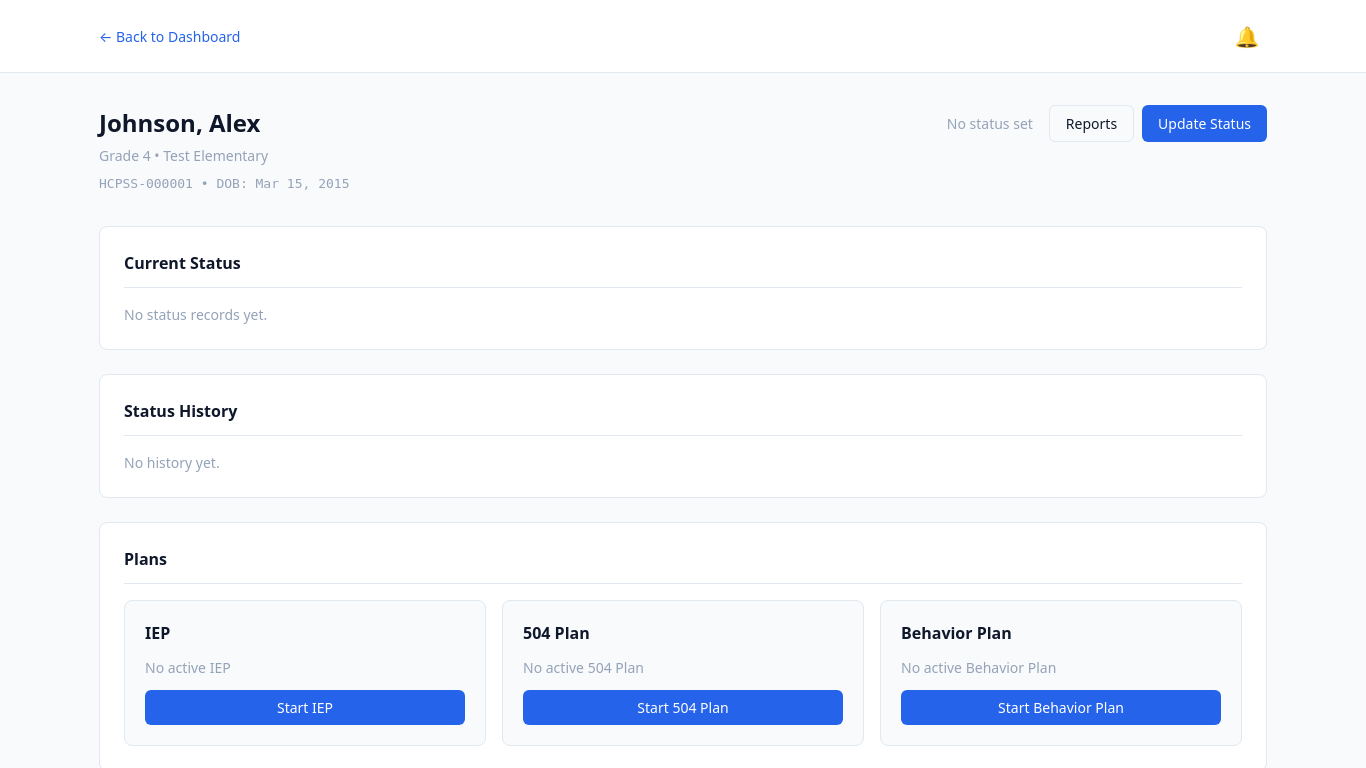
Scenario: Student Detail Page - Status Update › closes modal on cancel
The width and height of the screenshot is (1366, 768).
Click the button "Update Status" at (1205, 124), box top-left (1142, 105), bottom-right (1267, 142)
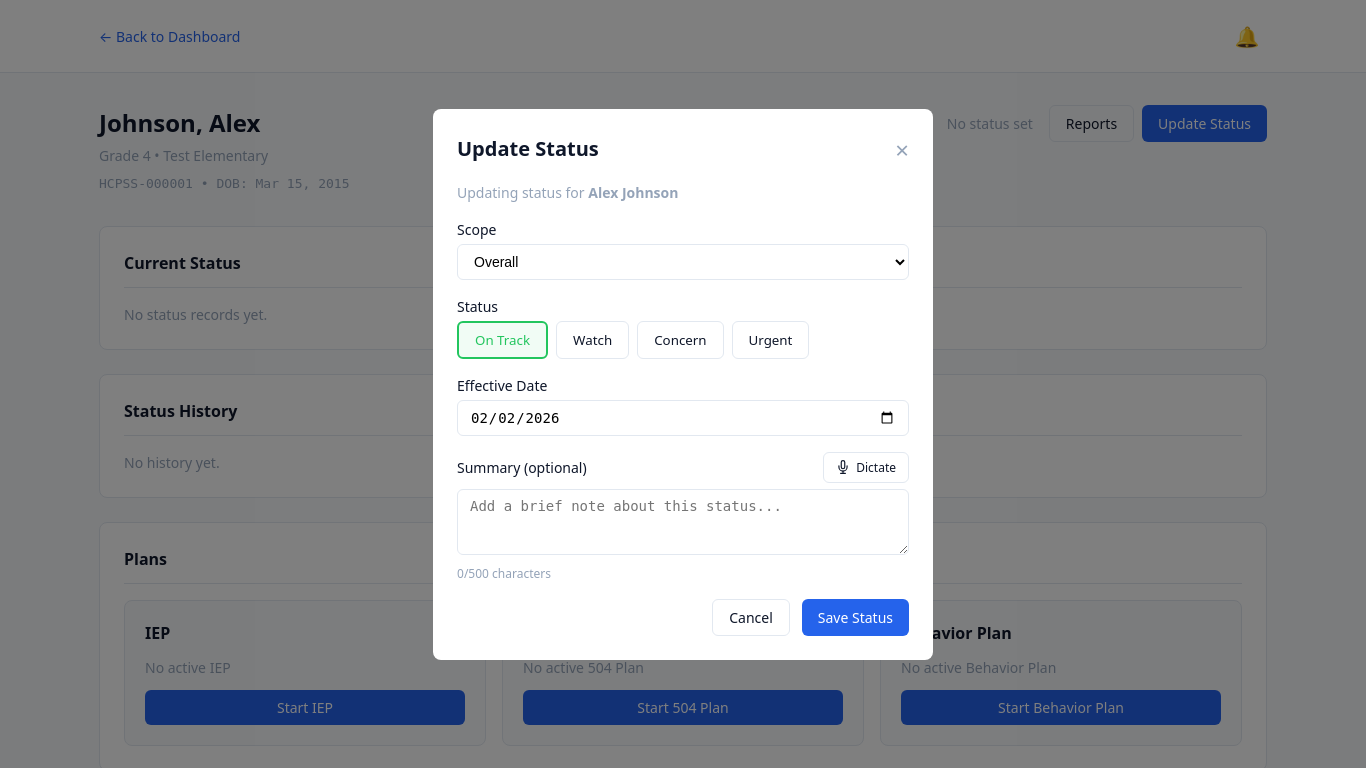
Now the text "Updating status for" is shown, box top-left (457, 182), bottom-right (588, 202)
Click the button "Cancel" at (751, 617), box top-left (712, 598), bottom-right (790, 636)
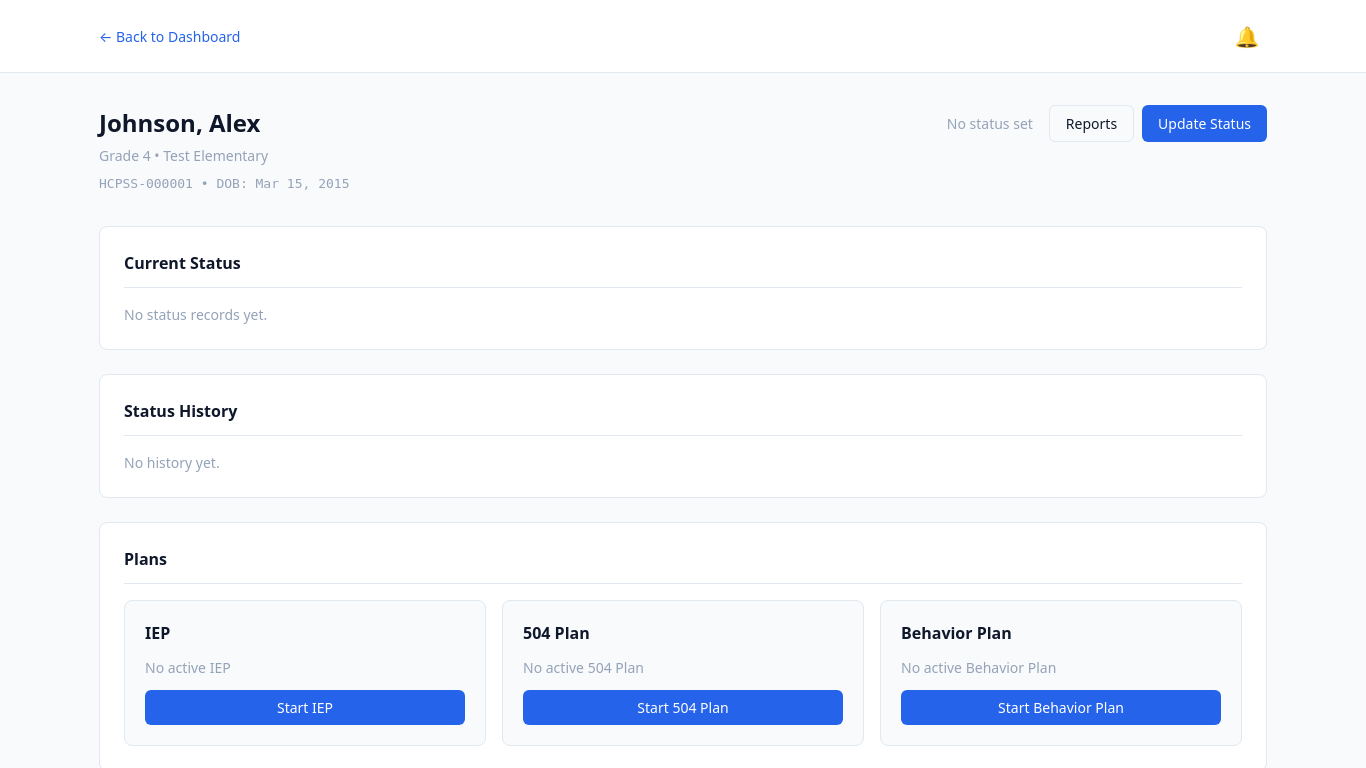
Now the text "Updating status for" is gone
